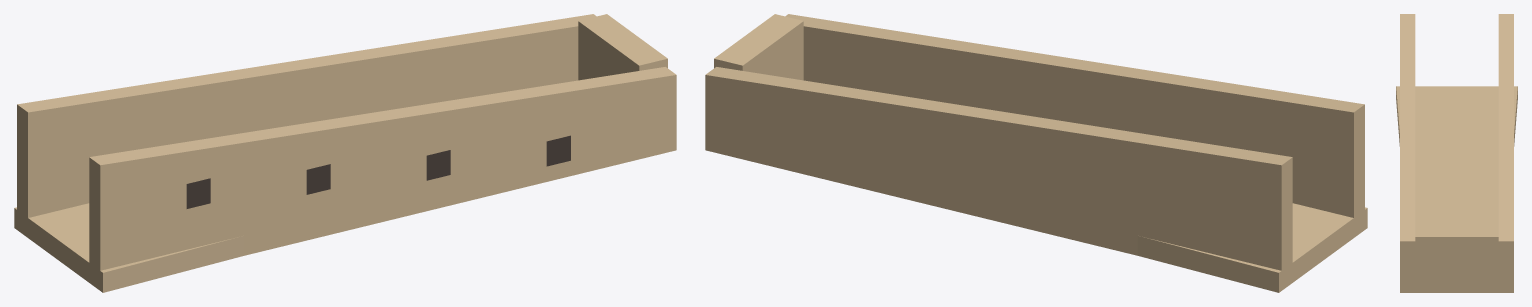
The model's file is prop-pegbox-blank.fbx.
3 views of the same model, side by side, from view 1: azimuth 30°, elevation 25°; view 2: azimuth 150°, elevation 25°; view 3: azimuth 270°, elevation 25° (orthographic). The views are drawn at different scales.
Parts seen in each view (by area): view 1: prop-pegbox-blank; view 2: prop-pegbox-blank; view 3: prop-pegbox-blank.
Part boxes in pixels (<box>): prop-pegbox-blank: <box>14,14,676,292</box>; prop-pegbox-blank: <box>705,14,1367,292</box>; prop-pegbox-blank: <box>1396,14,1517,292</box>.
Size of the model in its own units: 24.1 by 5 by 6.4.
